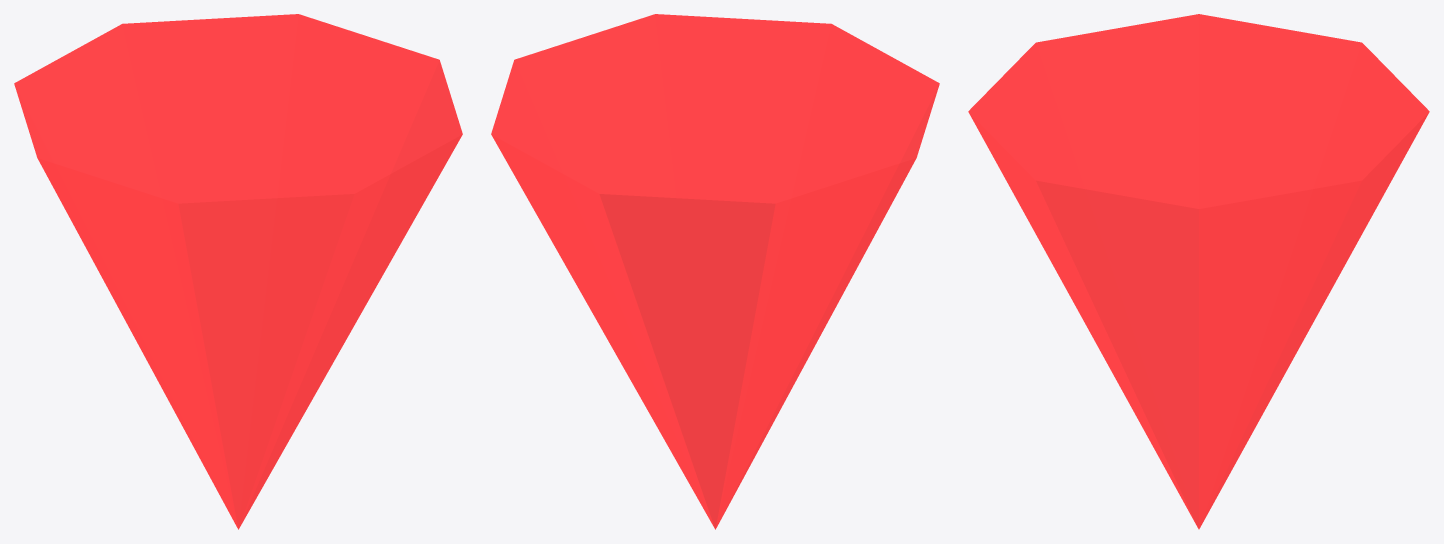
Rendered from enemy_red.glb.
3 views of the same model, side by side, from view 1: azimuth 30°, elevation 25°; view 2: azimuth 150°, elevation 25°; view 3: azimuth 270°, elevation 25° (orthographic).
Visible parts, largest first — view 1: red_cone; view 2: red_cone; view 3: red_cone.
Boxes of the visible parts, x1,y1,x2,y2 form: red_cone: (14, 14, 462, 529); red_cone: (491, 14, 939, 529); red_cone: (968, 14, 1429, 529).
Size of what is drawn, in the model's own units: 0.5333 by 0.5333 by 0.5333.
